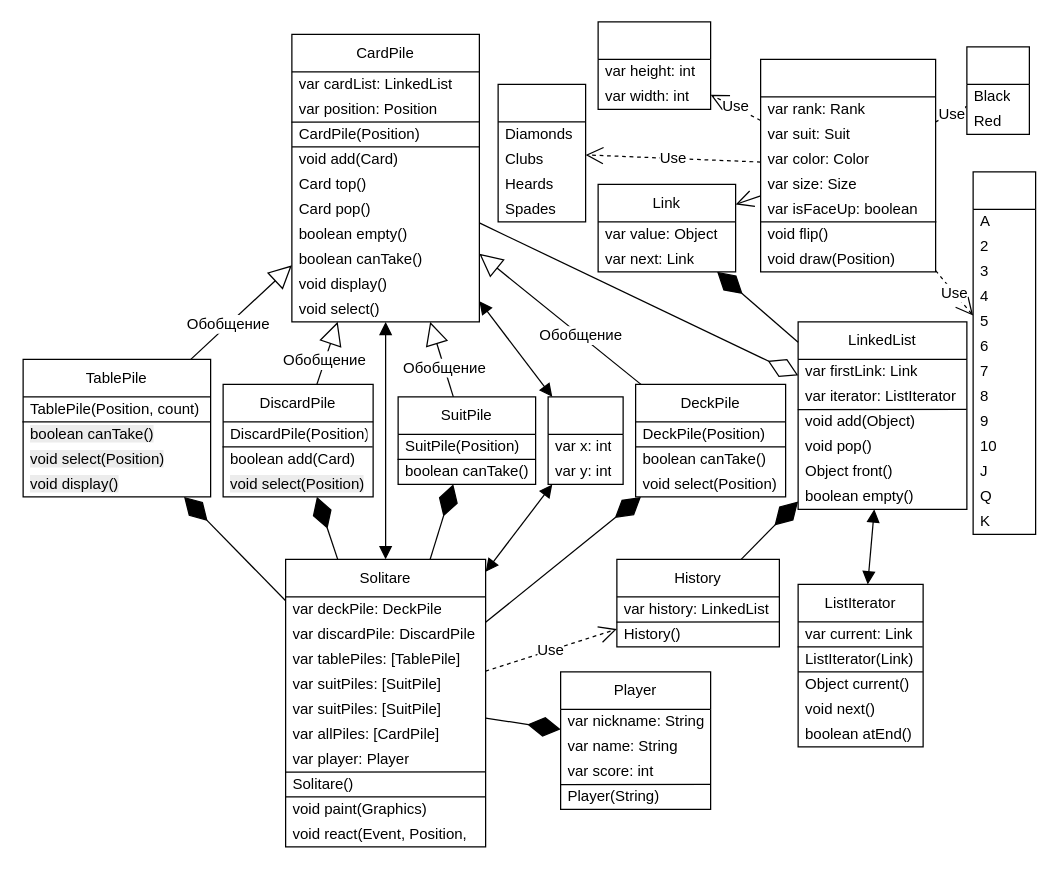
Some shapes in this 1058 by 880 pixel diagram are drawn without their labels. Each missing label, with the box of its shape:
Card: (759, 58, 936, 272)
Color (Enum): (966, 46, 1029, 134)
Position: (547, 396, 623, 484)
Rank (Enum): (972, 171, 1036, 534)
Size: (597, 21, 711, 109)
Suit (Enum): (497, 83, 586, 222)
